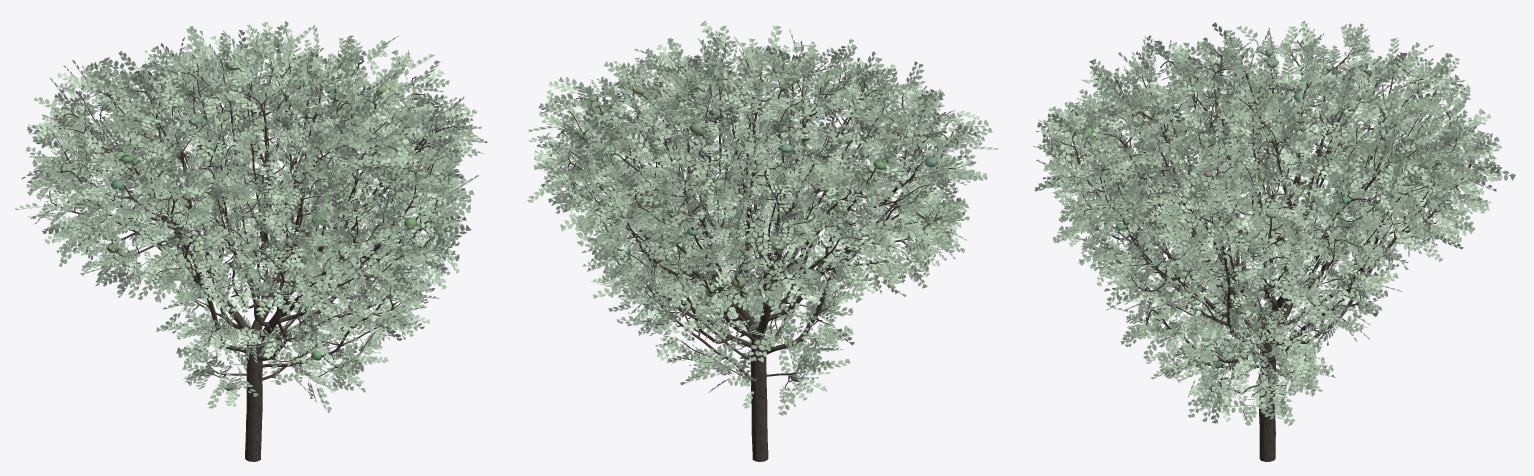
File: tree_53_camphor.glb
3 views of the same model, side by side, from view 1: azimuth 30°, elevation 25°; view 2: azimuth 150°, elevation 25°; view 3: azimuth 270°, elevation 25° (orthographic). The views are drawn at different scales.
Visible parts, largest first — view 1: tree_53_camphor.leaves, tree_53_camphor.trunk_branches, tree_53_camphor.foliage_volume; view 2: tree_53_camphor.leaves, tree_53_camphor.trunk_branches, tree_53_camphor.foliage_volume; view 3: tree_53_camphor.leaves, tree_53_camphor.trunk_branches, tree_53_camphor.foliage_volume.
Part boxes in pixels (x1,y1,x2,y2): tree_53_camphor.leaves: (15,21,487,412); tree_53_camphor.trunk_branches: (49,51,456,461); tree_53_camphor.foliage_volume: (107,58,444,390); tree_53_camphor.leaves: (527,20,997,415); tree_53_camphor.trunk_branches: (558,55,957,461); tree_53_camphor.foliage_volume: (590,80,937,381); tree_53_camphor.leaves: (1033,21,1515,426); tree_53_camphor.trunk_branches: (1060,40,1473,461); tree_53_camphor.foliage_volume: (1082,47,1434,368).
Size of the model in its own units: 14.62 by 13.19 by 14.67.
Materials: 3 (2 with a texture image).
